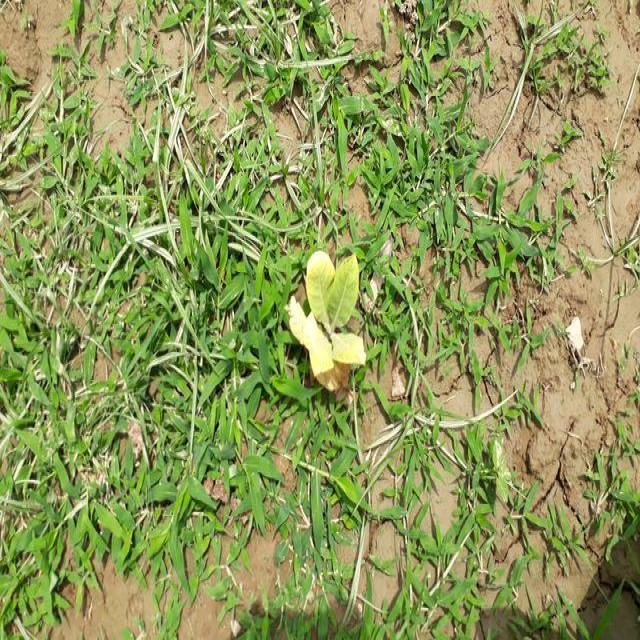crop: (292, 260, 369, 386)
